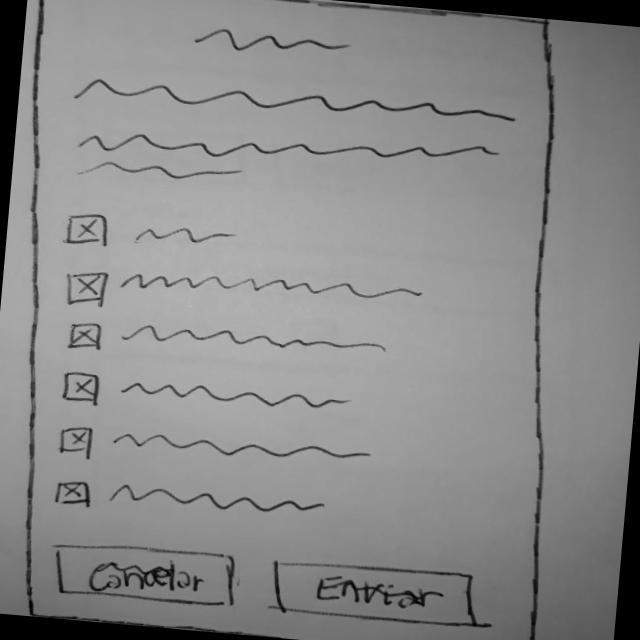button: (270, 554, 483, 630), (46, 535, 242, 612)
checkbox: (59, 252, 428, 340), (64, 312, 390, 382), (55, 420, 377, 486), (59, 368, 358, 430), (48, 474, 332, 534), (57, 209, 253, 262)
container: (0, 0, 600, 640)
text: (70, 68, 524, 138), (185, 16, 356, 66)
textbox: (66, 105, 510, 215)
